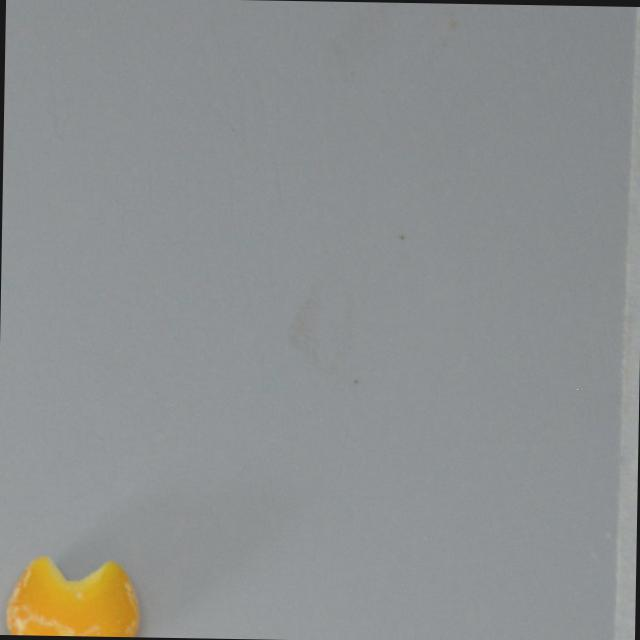dañado: (0, 550, 147, 637)
